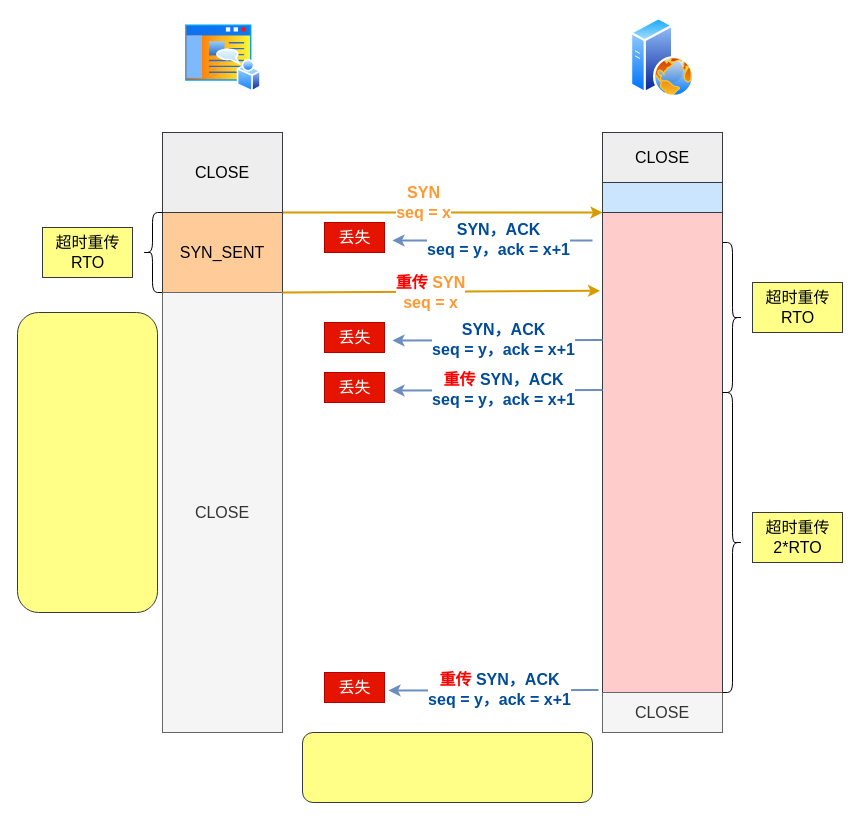
Image size: 860x820. Some labels were removed from this diagram. The shapes that lost their labels are listed below. From the top down, each one's centre as x and y in pixels, then its label:
At (x=222, y=57): "客户端".
At (x=662, y=57): "服务端".
At (x=662, y=197): "LISTEN".
At (x=87, y=462): "第一次握手 最大重传次数由 tcp_syn_retries 参数控制".
At (x=662, y=452): "SYN_RCVD".
At (x=447, y=767): "第二次握手最大重传次数由 tcp_synack_retries 参数控制".
